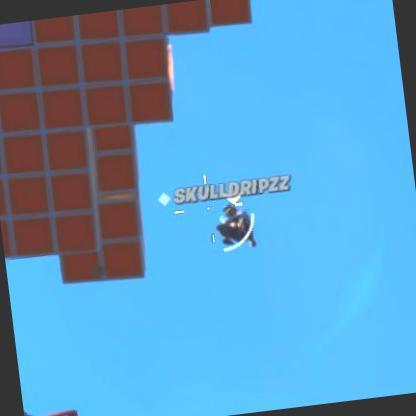person: (210, 200, 252, 254)
